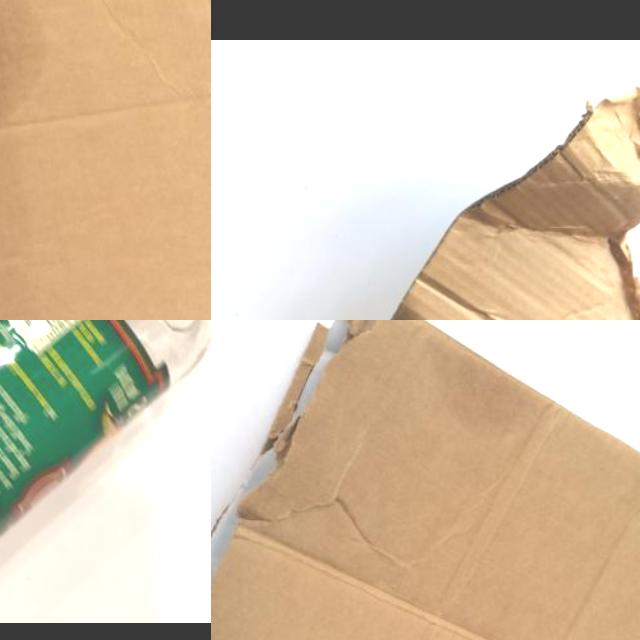garrafa de vidro: (0, 320, 211, 621)
papelão: (211, 320, 640, 640), (0, 0, 211, 320), (366, 84, 640, 320)
